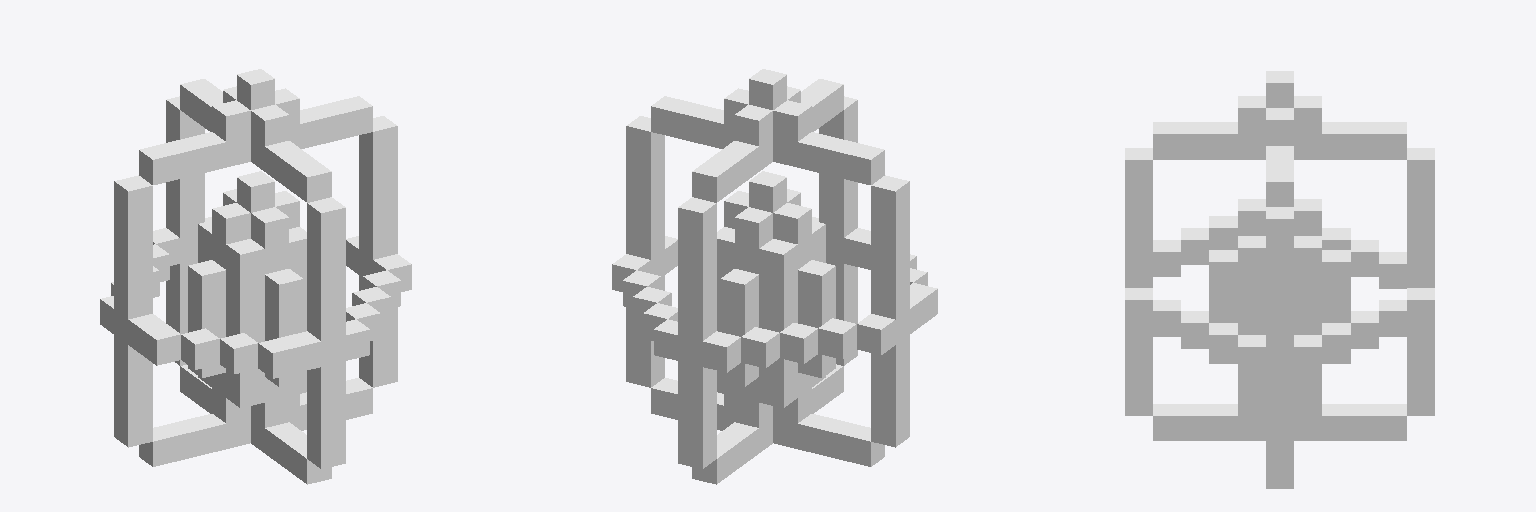
The model's file is Score.obj.
The picture shows the model from 3 angles: view 1: azimuth 30°, elevation 25°; view 2: azimuth 150°, elevation 25°; view 3: azimuth 270°, elevation 25°; orthographic projection.
Parts seen in each view (by area): view 1: object 1; view 2: object 1; view 3: object 1.
Boxes of the visible parts, box(x1,y1,x2,y2) form: object 1: box(100, 69, 411, 484); object 1: box(612, 69, 937, 484); object 1: box(1125, 71, 1434, 488).
Size of the model in its own units: 1.1 by 1.4 by 1.1.